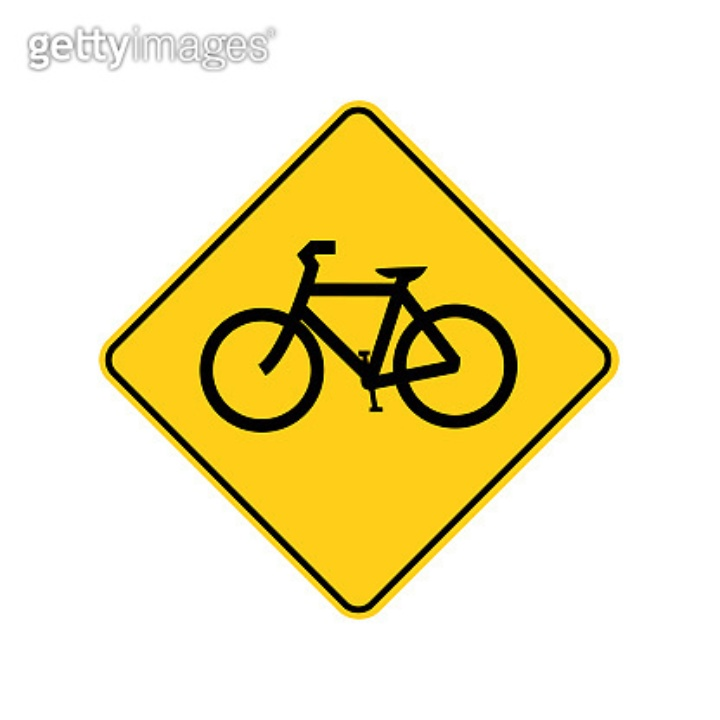bicycle: (189, 227, 522, 444)
